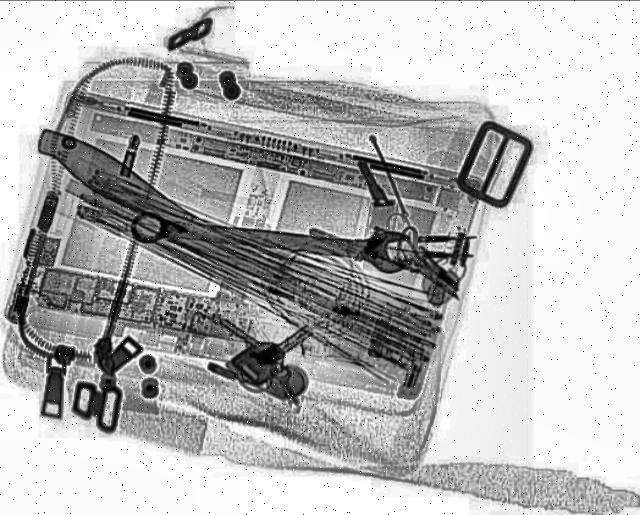Knife: (20, 123, 244, 263)
Wrench: (124, 206, 414, 278)
